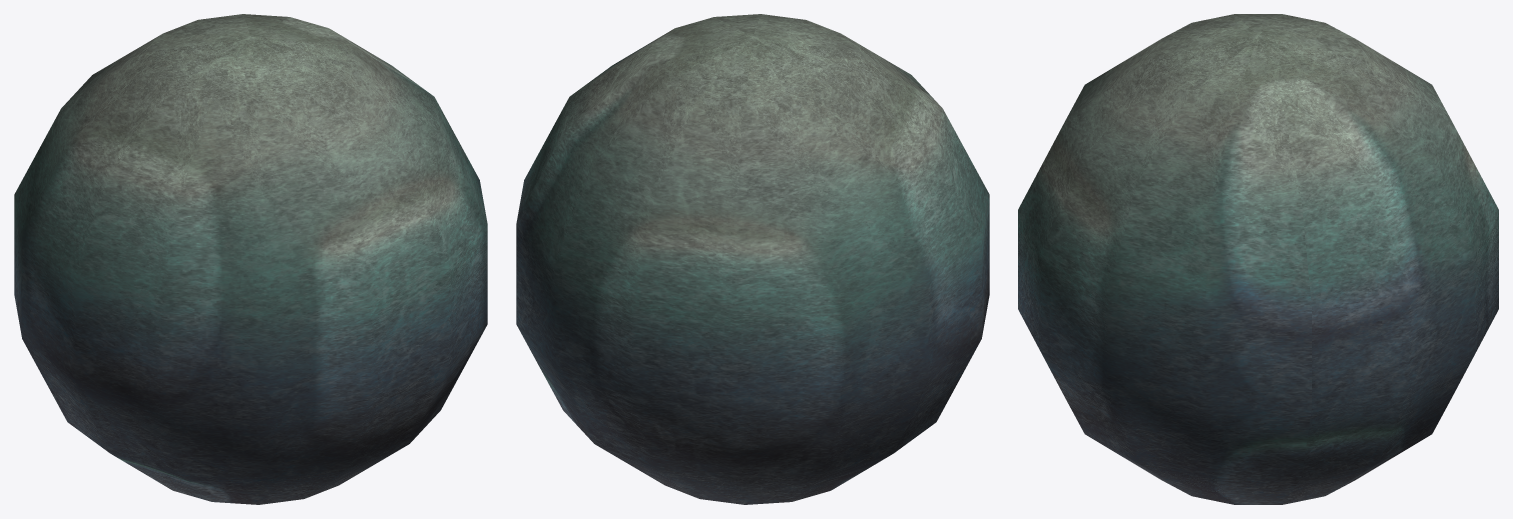
Rendered from Ball_2.FBX.
3 views of the same model, side by side, from view 1: azimuth 30°, elevation 25°; view 2: azimuth 150°, elevation 25°; view 3: azimuth 270°, elevation 25° (orthographic).
Parts seen in each view (by area): view 1: Sphere023; view 2: Sphere023; view 3: Sphere023.
Boxes of the visible parts, x1,y1,x2,y2 form: Sphere023: (14,14,487,504); Sphere023: (516,14,989,504); Sphere023: (1018,14,1498,504).
Size of the model in its own units: 2.88 by 3.03 by 2.96.
